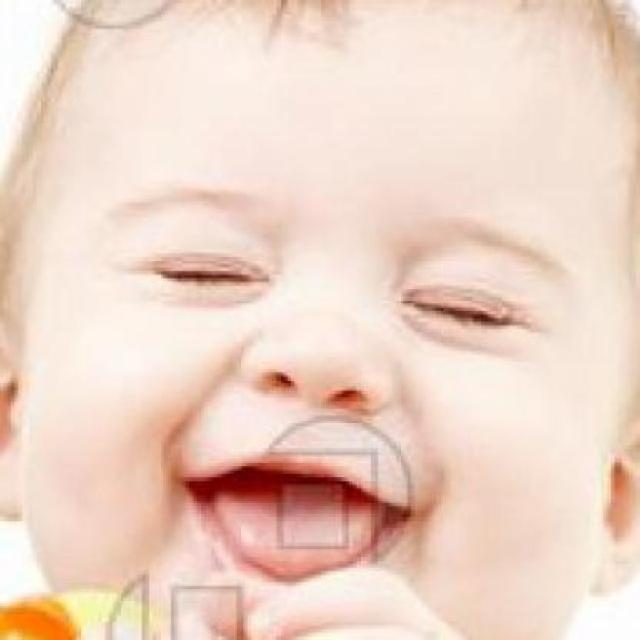drowsy: (398, 282, 512, 346), (146, 246, 260, 309)
